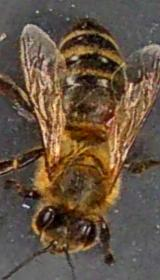varroa_mite: (96, 109, 124, 129)
